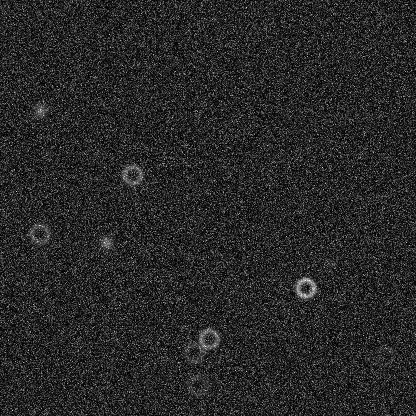Ring: (181, 340, 205, 364), (293, 275, 317, 299), (196, 326, 220, 350), (373, 343, 397, 367), (120, 162, 144, 186), (184, 373, 208, 397), (27, 221, 51, 245)
Spot: (322, 254, 338, 270), (32, 102, 48, 118), (97, 234, 113, 250)
